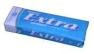grozi_5: (4, 6, 89, 48)
